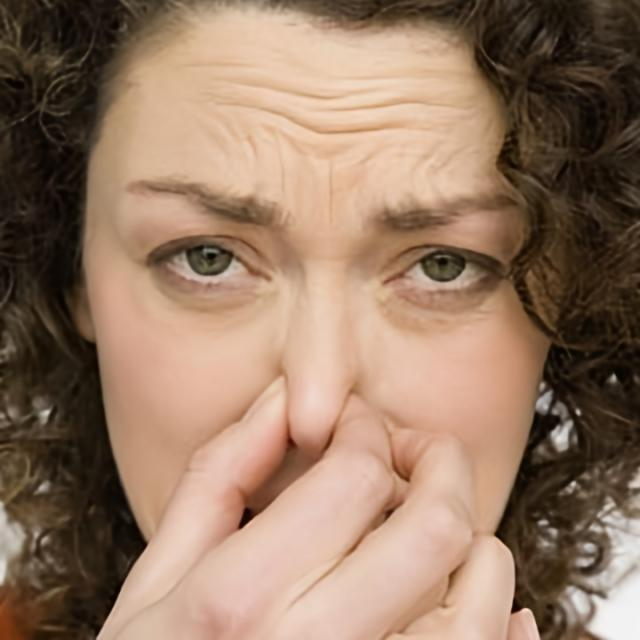disgust: (75, 0, 562, 640)
